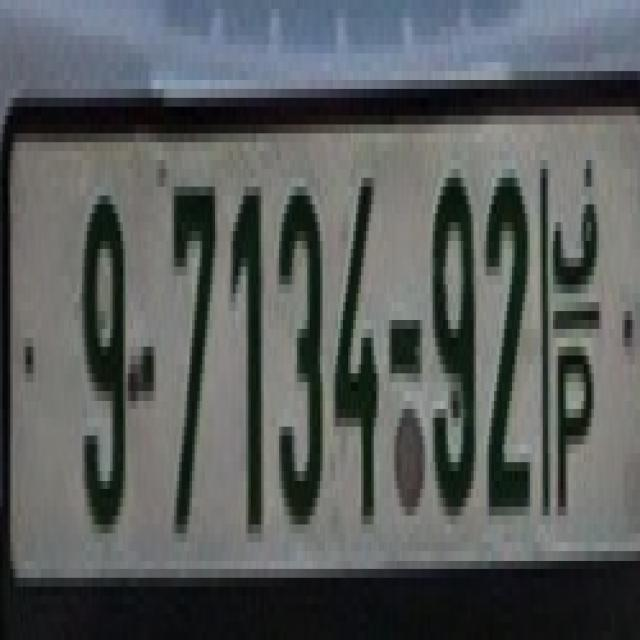1: (220, 151, 266, 533)
2: (479, 151, 530, 516)
3: (272, 160, 322, 524)
4: (331, 151, 382, 516)
7: (158, 168, 218, 534)
9: (69, 168, 136, 534), (425, 151, 471, 525)
H: (535, 134, 602, 516)
